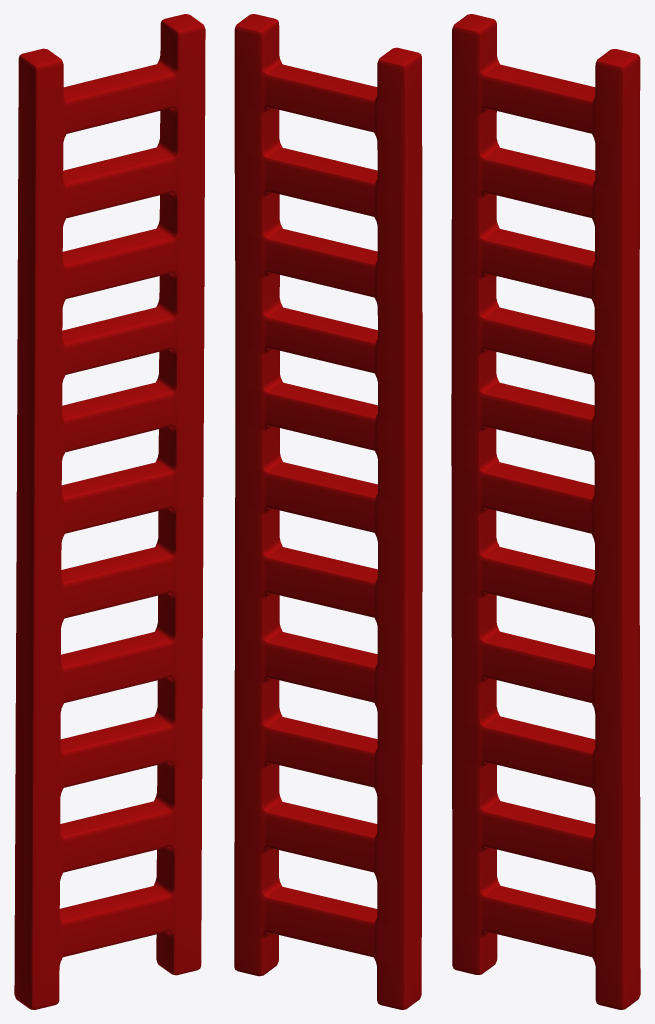
The model's file is S1_L_Ladder02.fbx.
The picture shows the model from 3 angles, left to right: view 1: azimuth 30°, elevation 25°; view 2: azimuth 150°, elevation 25°; view 3: azimuth 330°, elevation 25°; orthographic projection.
Visible parts, largest first — view 1: S1_Ladder02; view 2: S1_Ladder02; view 3: S1_Ladder02.
Part boxes in pixels (box(x1,y1,x2,y2)): S1_Ladder02: box(14, 14, 205, 1009); S1_Ladder02: box(234, 14, 422, 1009); S1_Ladder02: box(451, 14, 640, 1009).
Bounding box in the file's own units: 389 × 2016 × 85.11.
